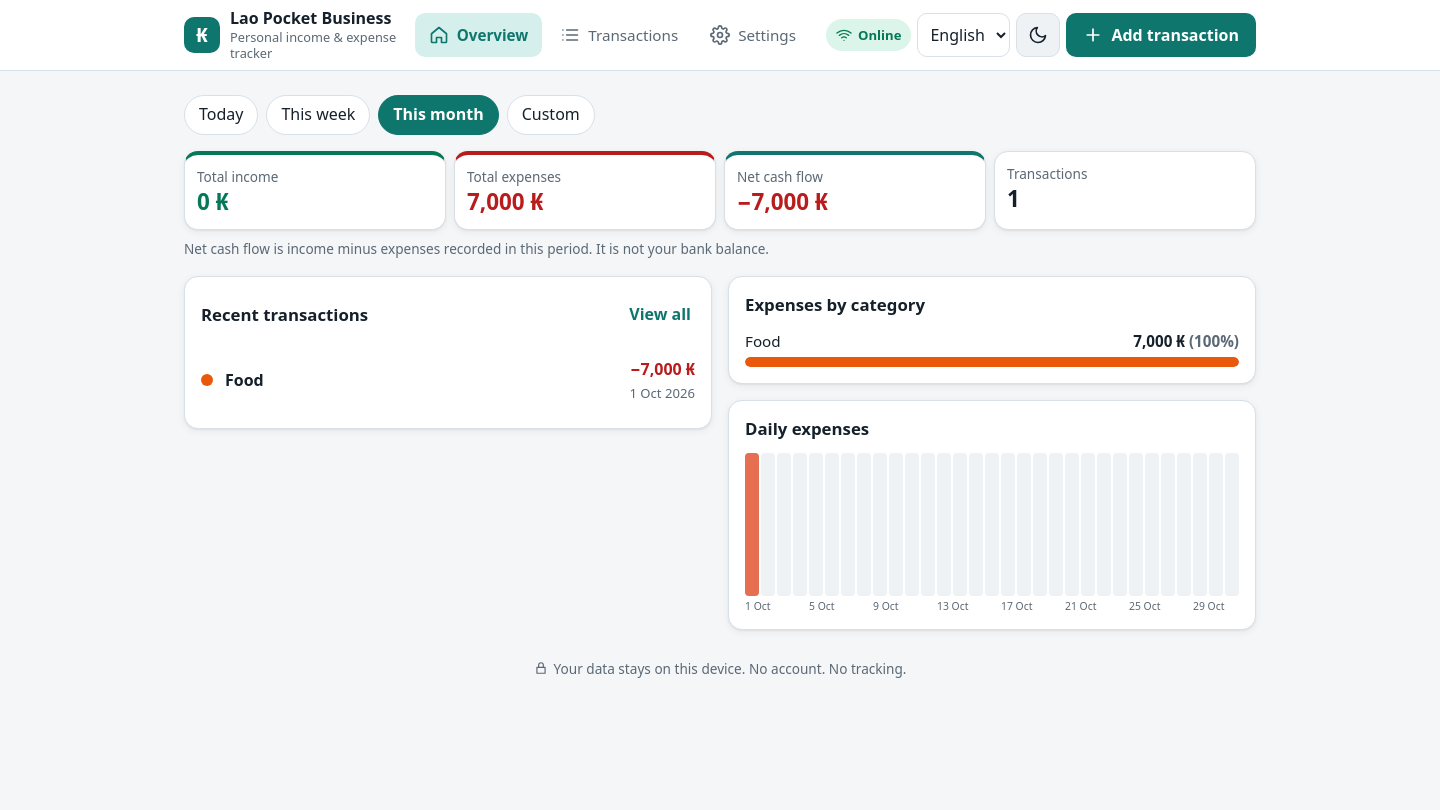
Test case: dashboard periods roll over at local midnight while the app is open › a custom range chosen by the user is not changed at midnight
What coordinates should you click on to do the following:
click the button "Custom"
I would click on:
 (551, 115)
Its box is [507,95,595,135].
Wait 120000 ms
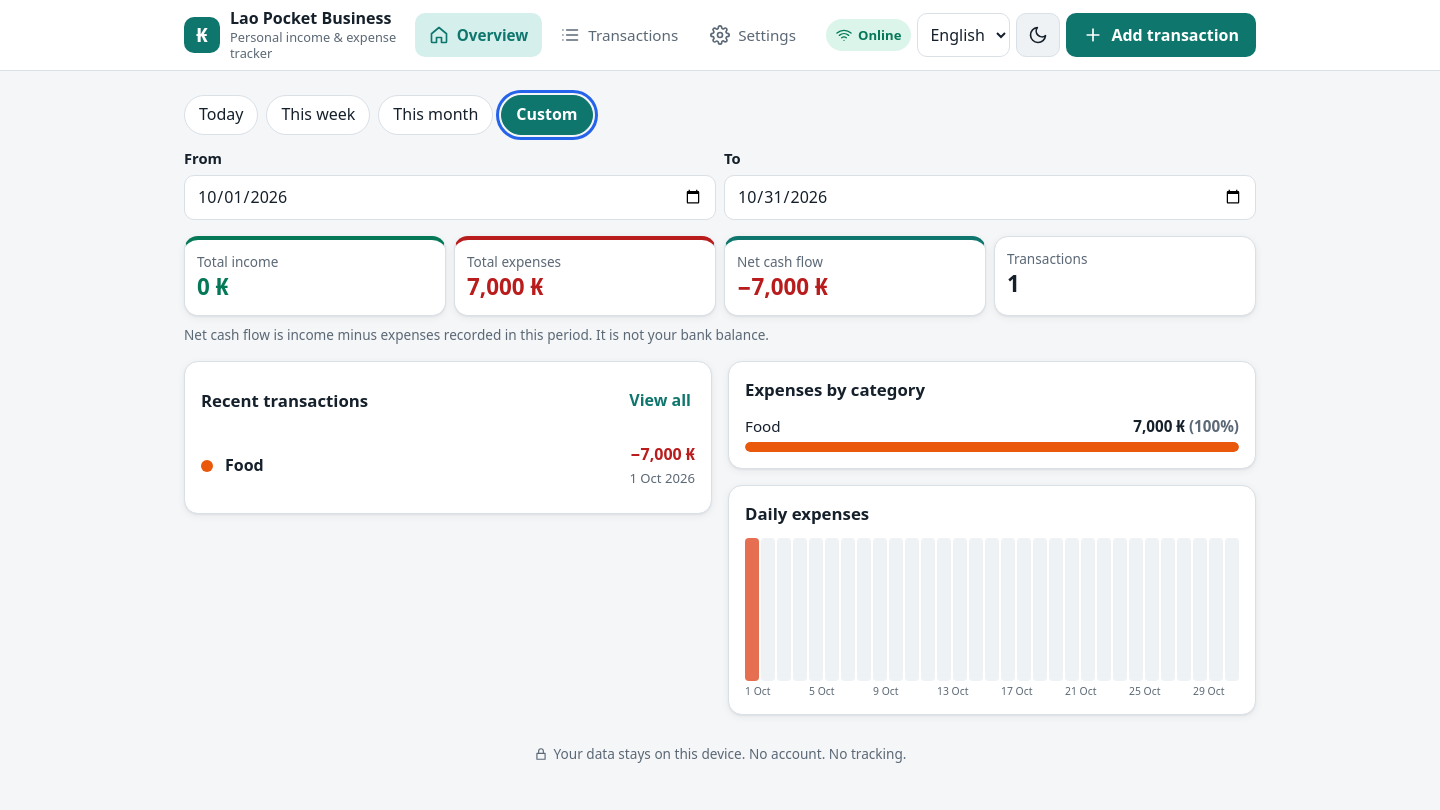
Check: the text with test id "total-expense" reads "7,000 ₭", box [467,271,543,302]
Check: the date field labelled "From" holds "2026-10-01", box [184,175,716,220]
Check: the date field labelled "To" holds "2026-10-31", box [724,175,1256,220]
